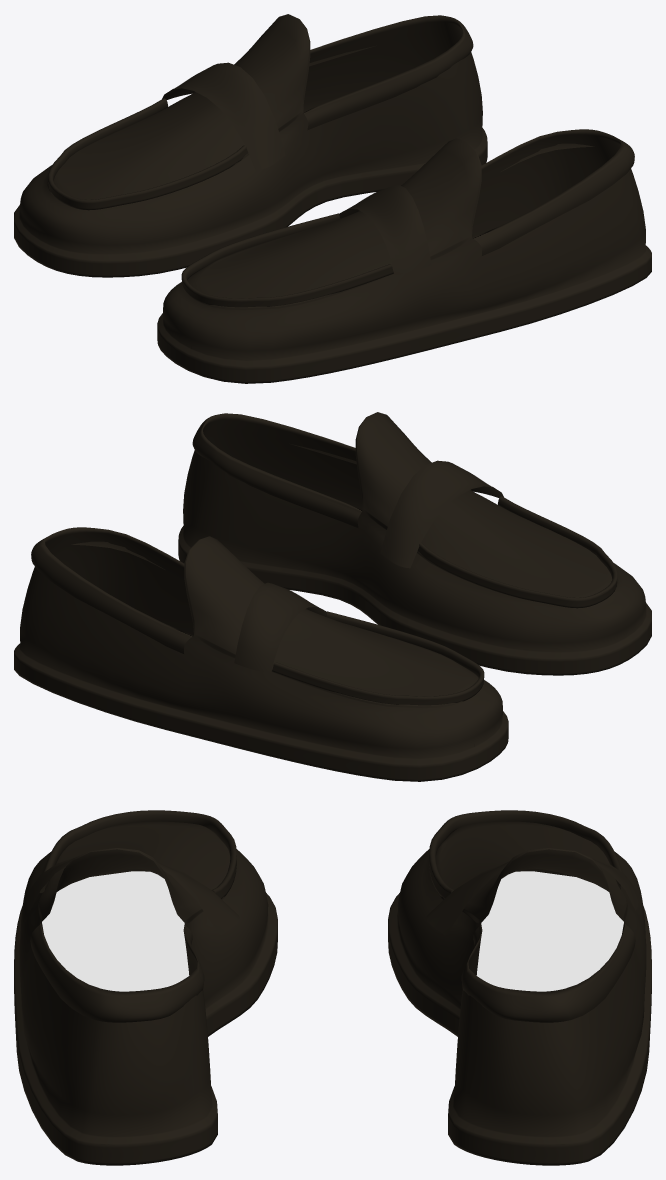
Rendered from shoes 6.fbx.
3 renders of one model, top to bottom at view 1: azimuth 30°, elevation 25°; view 2: azimuth 150°, elevation 25°; view 3: azimuth 270°, elevation 25°, orthographic. The views are drawn at different scales.
Parts seen in each view (by area): view 1: Rectangle02, Rectangle02.002; view 2: Rectangle02.002, Rectangle02; view 3: Rectangle02.002, Rectangle02.
Boxes of the visible parts, x1,y1,x2,y2 form: Rectangle02: [157, 129, 651, 383]; Rectangle02.002: [14, 14, 487, 277]; Rectangle02.002: [14, 527, 508, 781]; Rectangle02: [178, 412, 651, 675]; Rectangle02.002: [388, 810, 651, 1165]; Rectangle02: [14, 810, 277, 1165].
Bounding box in the file's own units: 476 × 160 × 446.
Materials: 1 (1 with a texture image).
